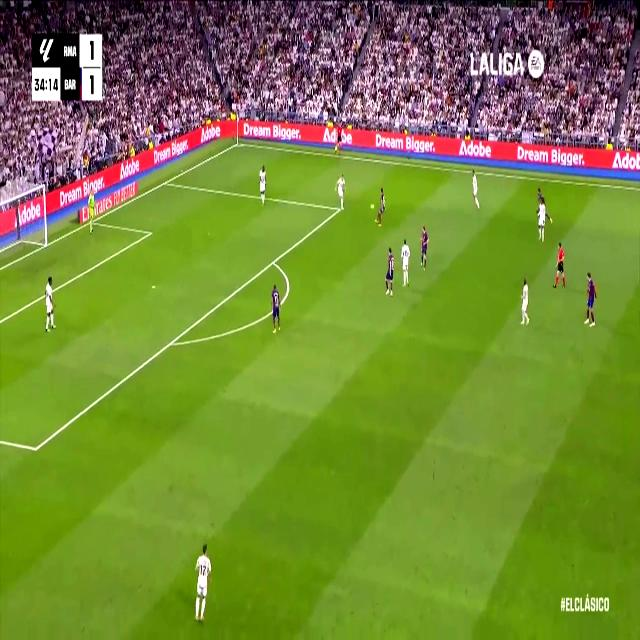bigarea_bottom_inner: (30, 435, 41, 462)
bigarea_top_outter: (163, 177, 169, 187)
bottom_arc_area_intersection: (166, 332, 176, 352)
corner: (233, 136, 242, 148)
smallarea_top_inner: (146, 228, 152, 238)
top_arc_area_intersection: (269, 253, 277, 269)
